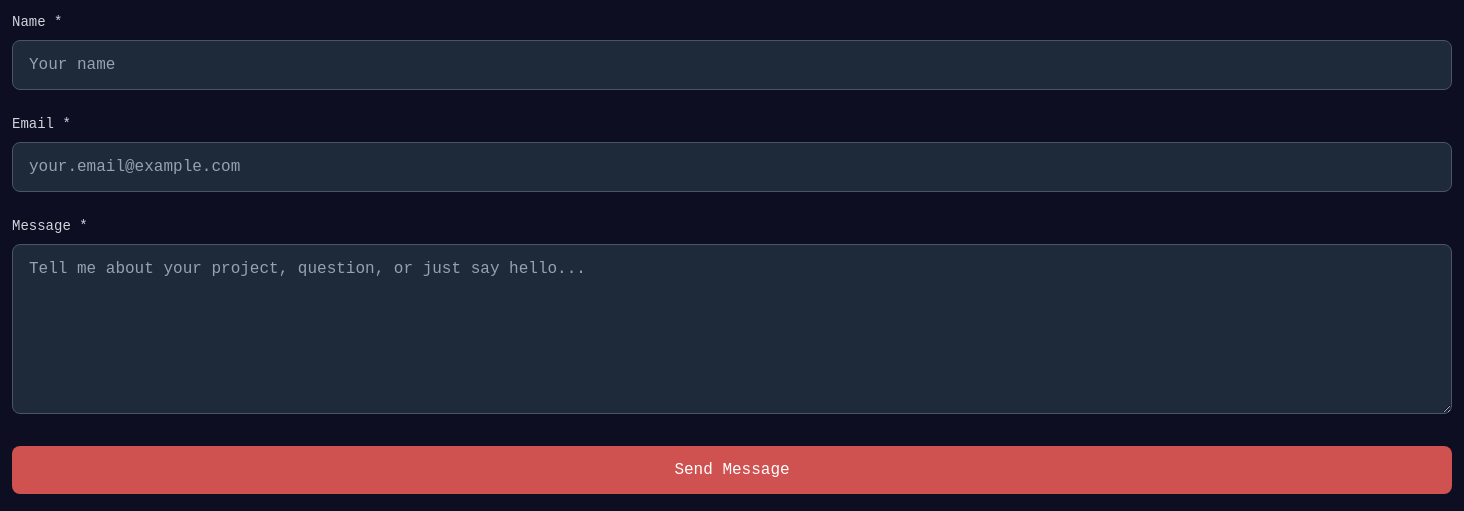
Test: ContactForm › form state management › should disable submit button while submitting
Fill form
Step 1. Type "John Doe" into the field labelled "Name *" → (732, 65), box x1=12 y1=40 x2=1452 y2=90
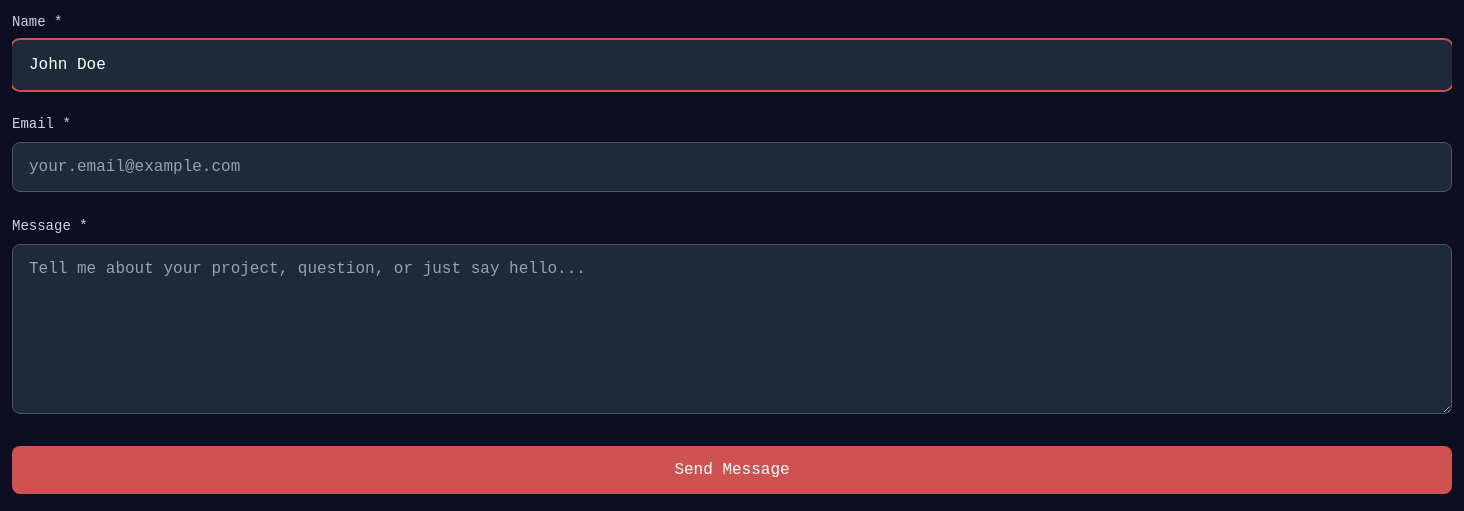
Step 2. Type "john@example.com" into the field labelled "Email *" → (732, 167), box x1=12 y1=142 x2=1452 y2=192
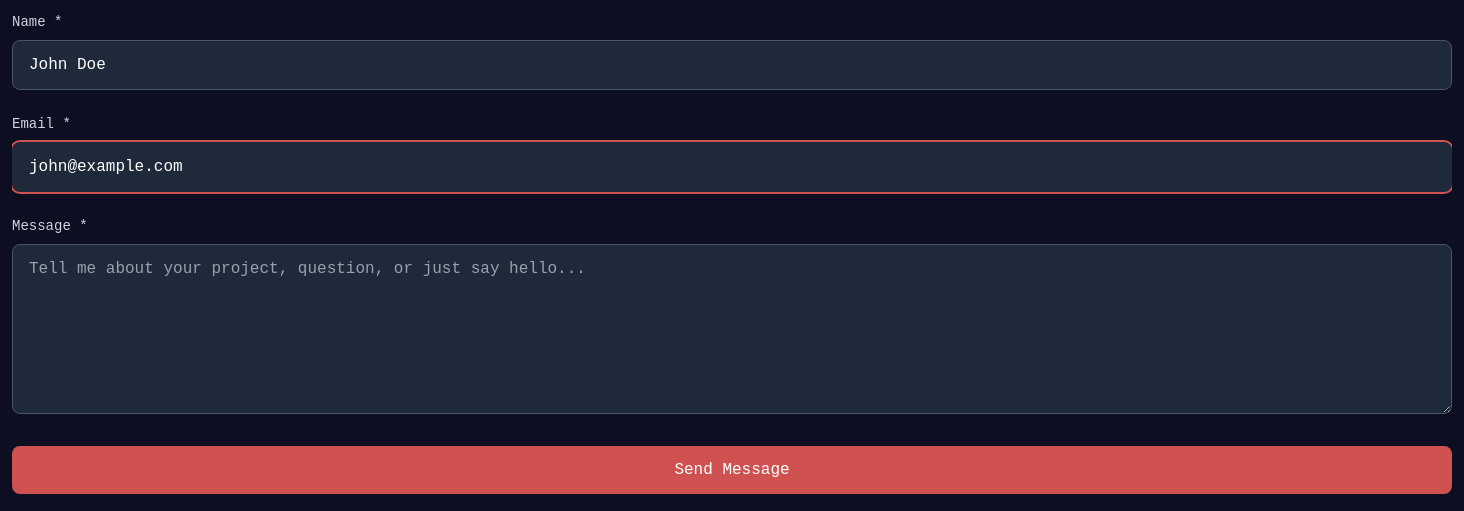
Step 3. Type "This is a test message with enough characters" into the text box labelled "Message *" → (732, 329), box x1=12 y1=244 x2=1452 y2=414
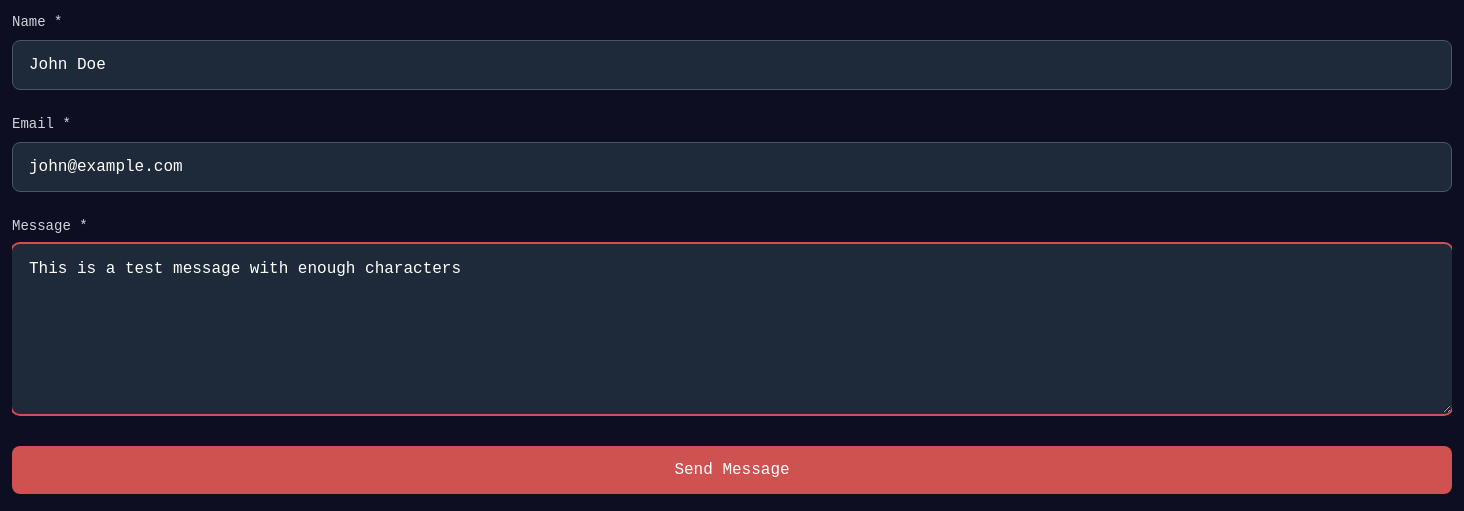
Step 4. Click the button "Send Message" → (732, 470), box x1=12 y1=446 x2=1452 y2=494
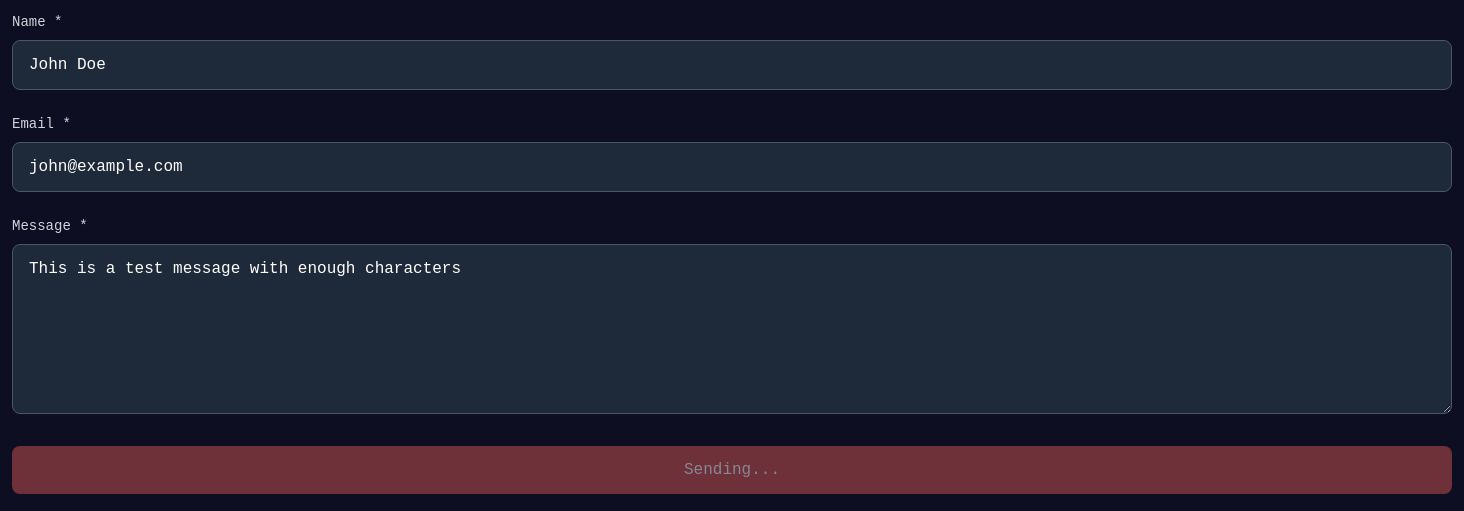
expect the button named "send message" is disabled: met, box x1=12 y1=446 x2=1452 y2=494
